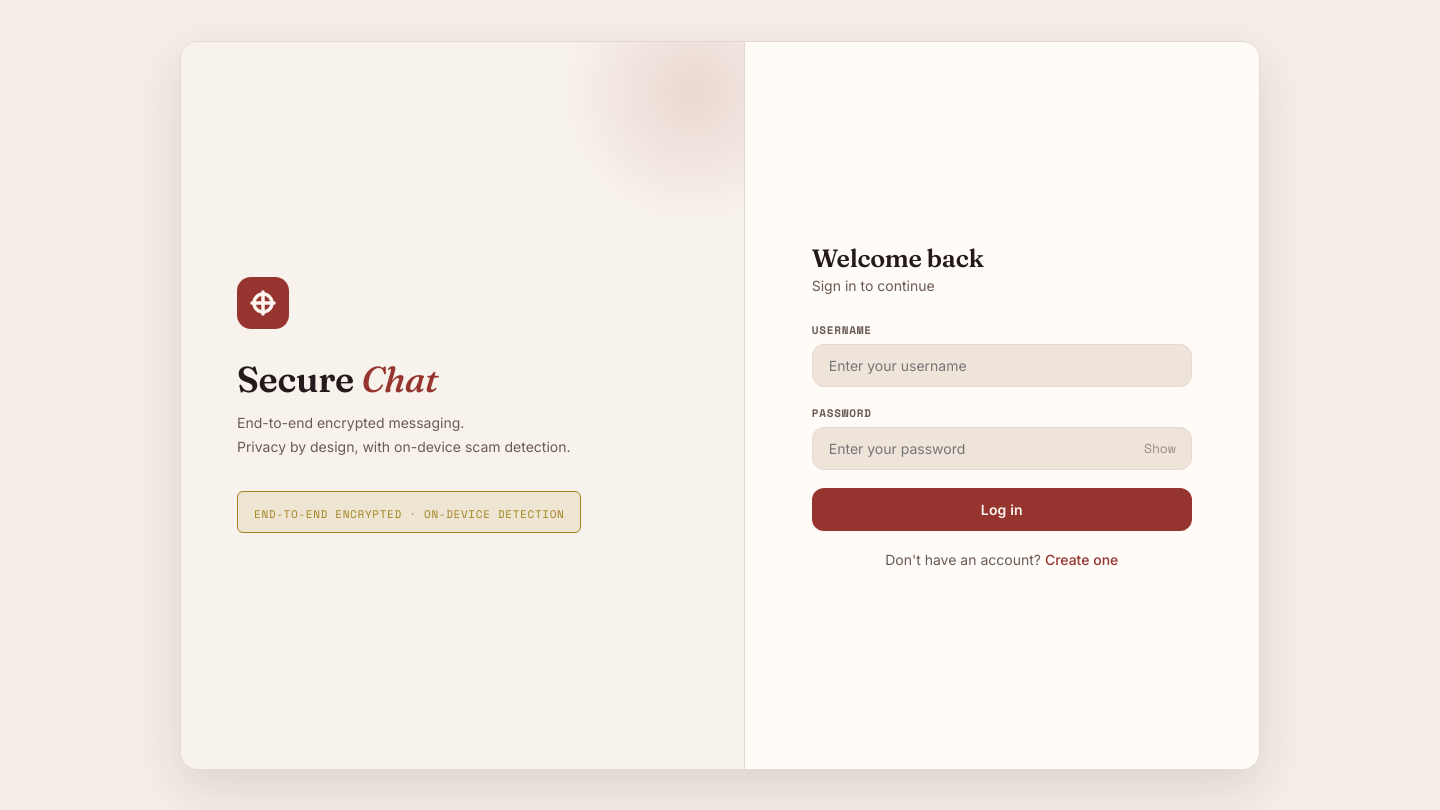
Test case: AuthScreen › shows the server conflict message when the username is already registered
Click the button "Create one": (1082, 559) [1045,550,1118,568]
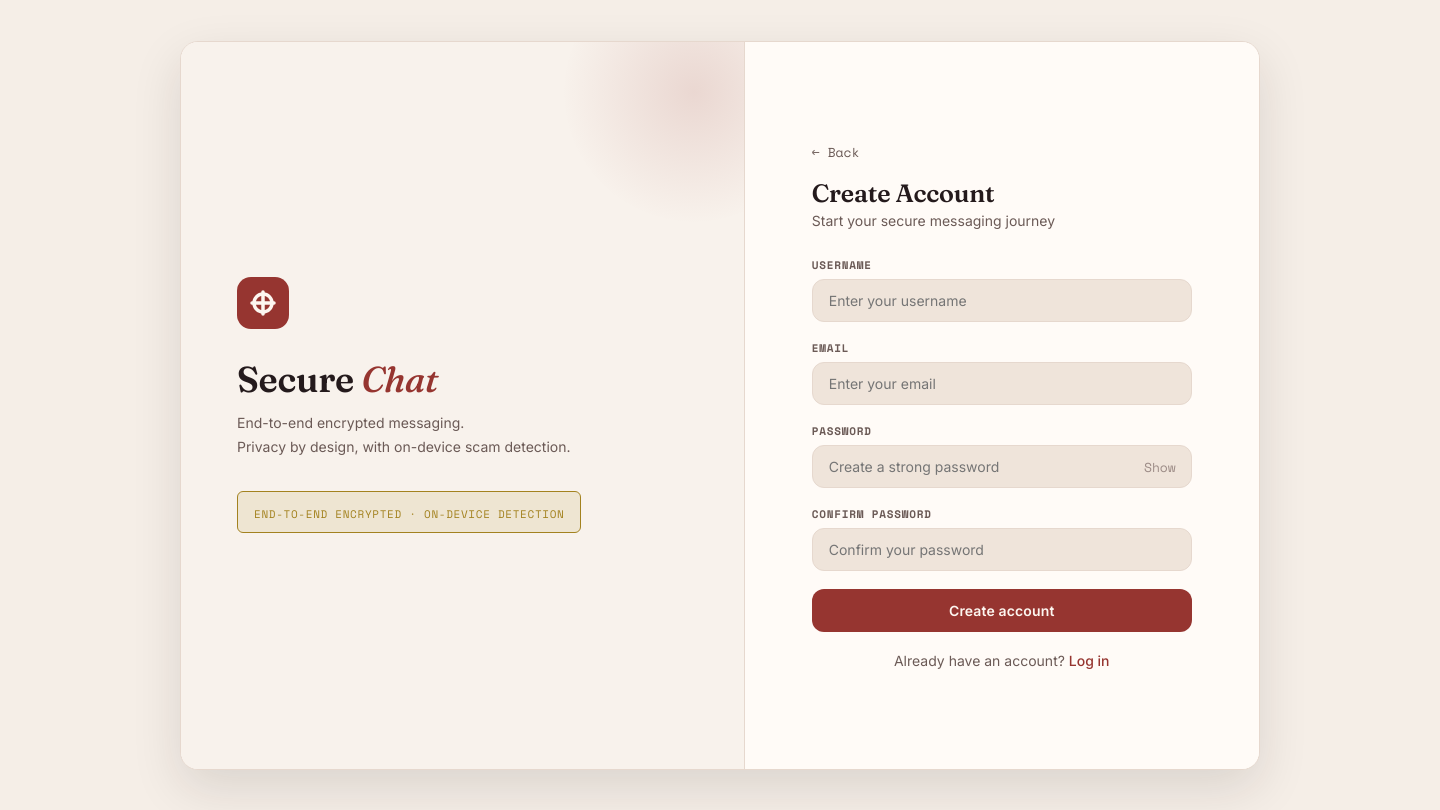
In the field labelled "Username": (1002, 300) [812,279,1192,322], type "alice"
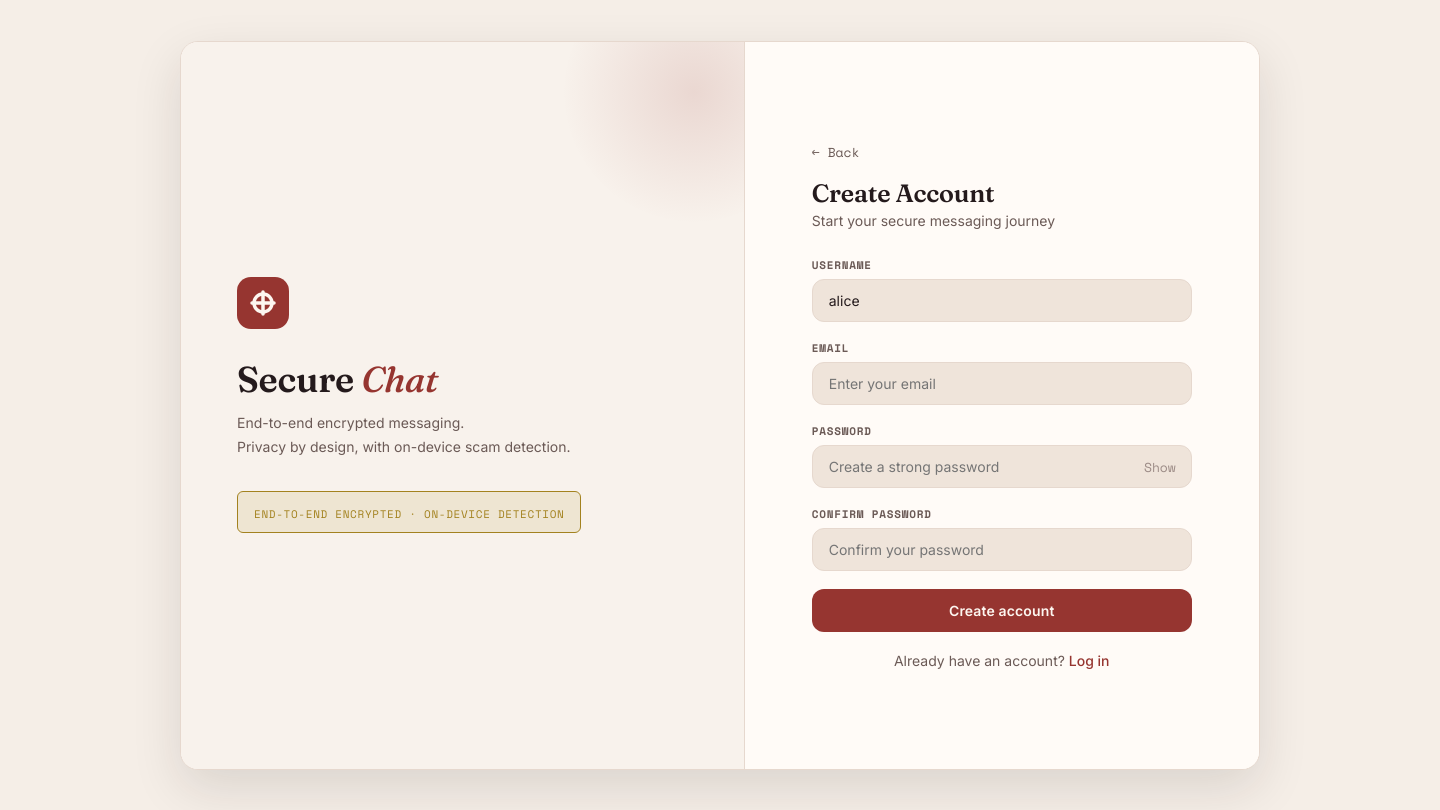
In the field labelled "Email": (1002, 384) [812,362,1192,405], type "alice@example.com"
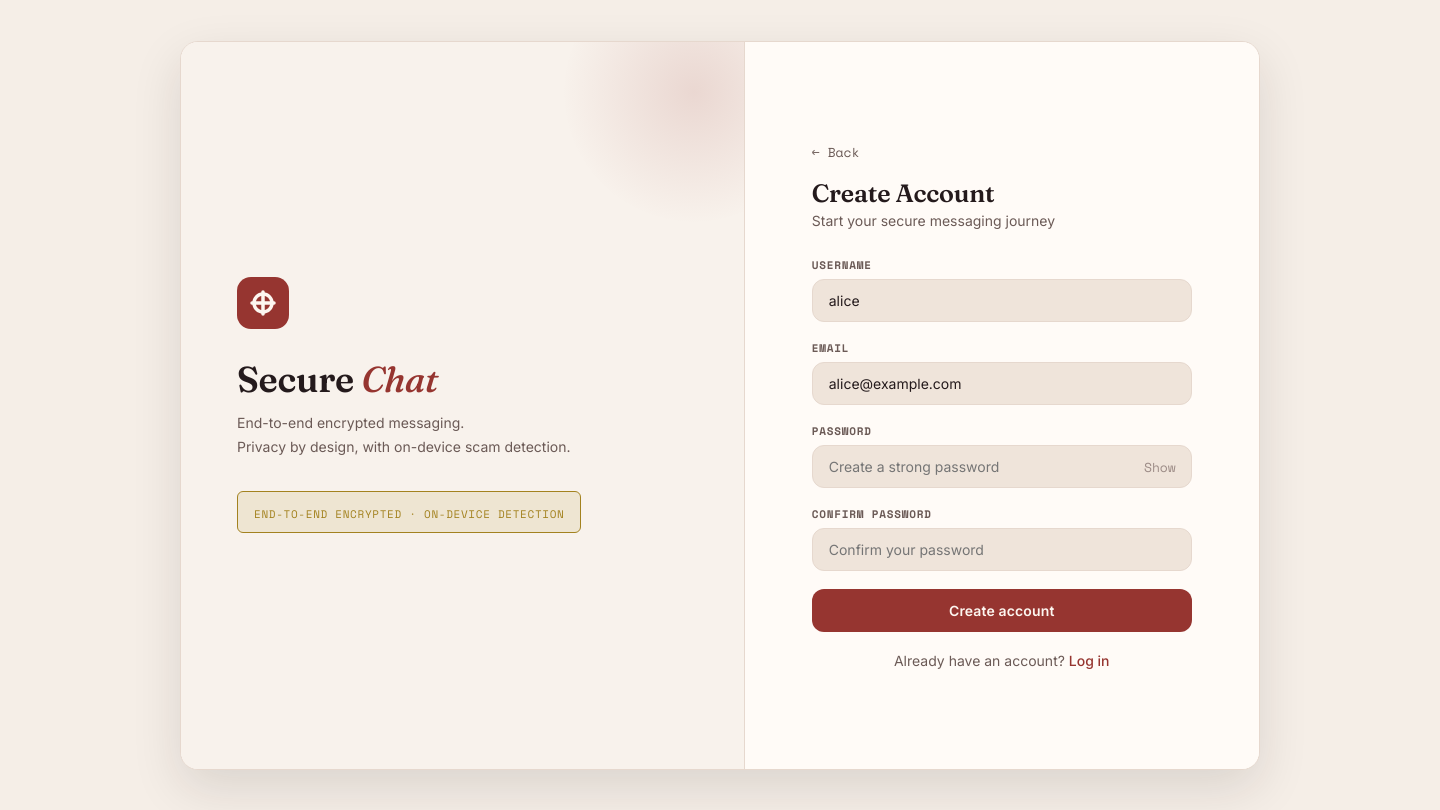
In the password field labelled "Password": (1002, 466) [812,445,1192,488], type "correct horse battery staple"
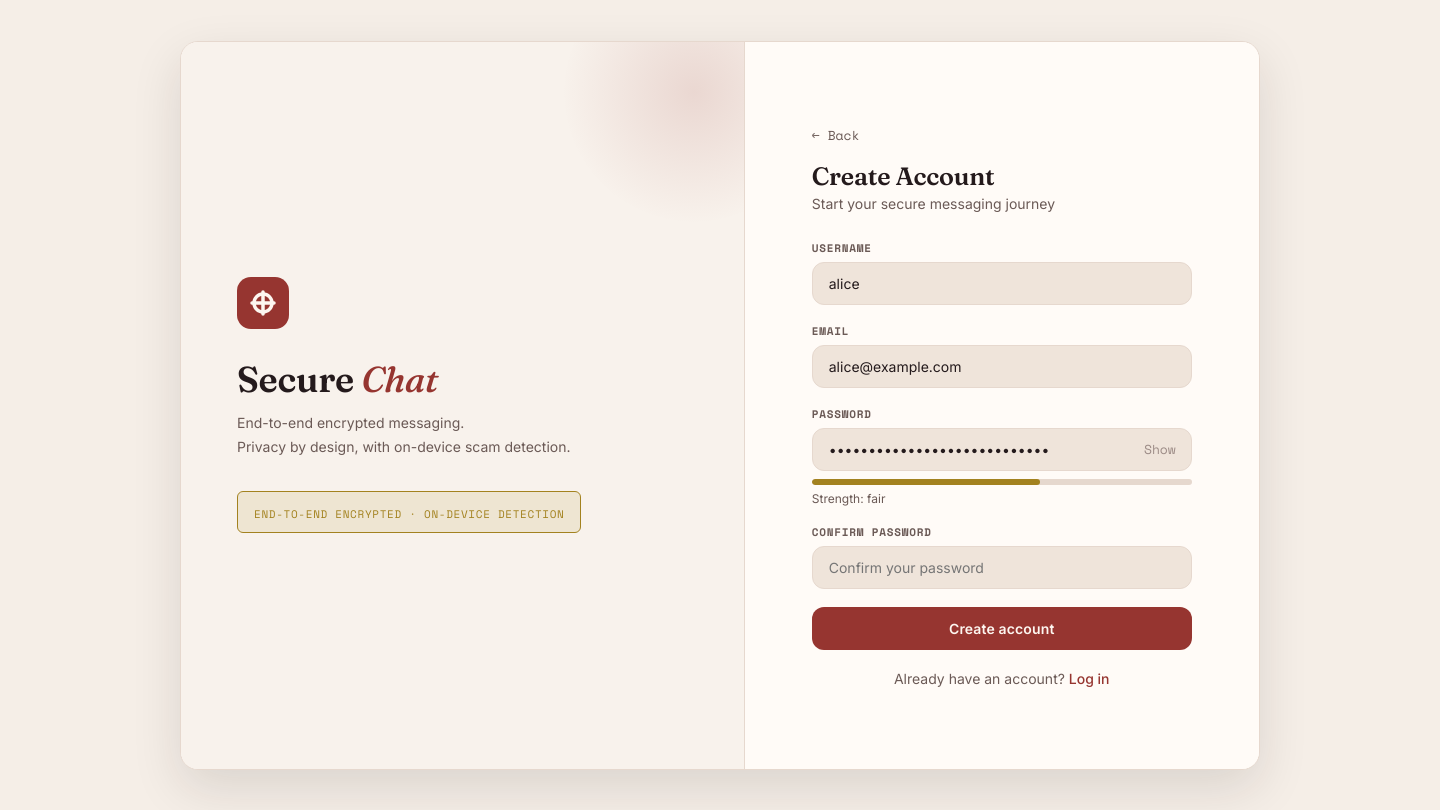
In the password field labelled "Confirm password": (1002, 567) [812,546,1192,588], type "correct horse battery staple"
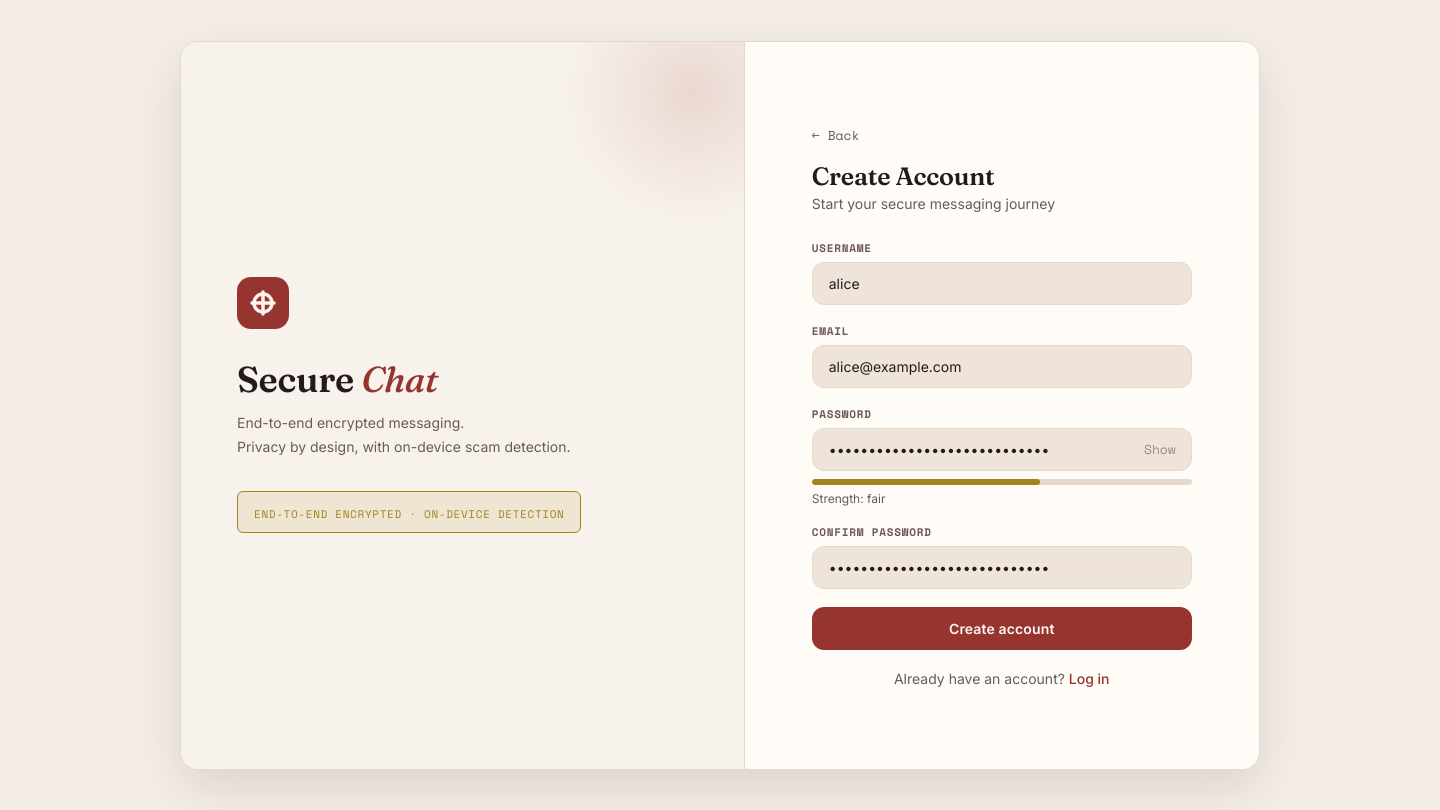
Click the button "Create account": (1002, 628) [812,606,1192,650]
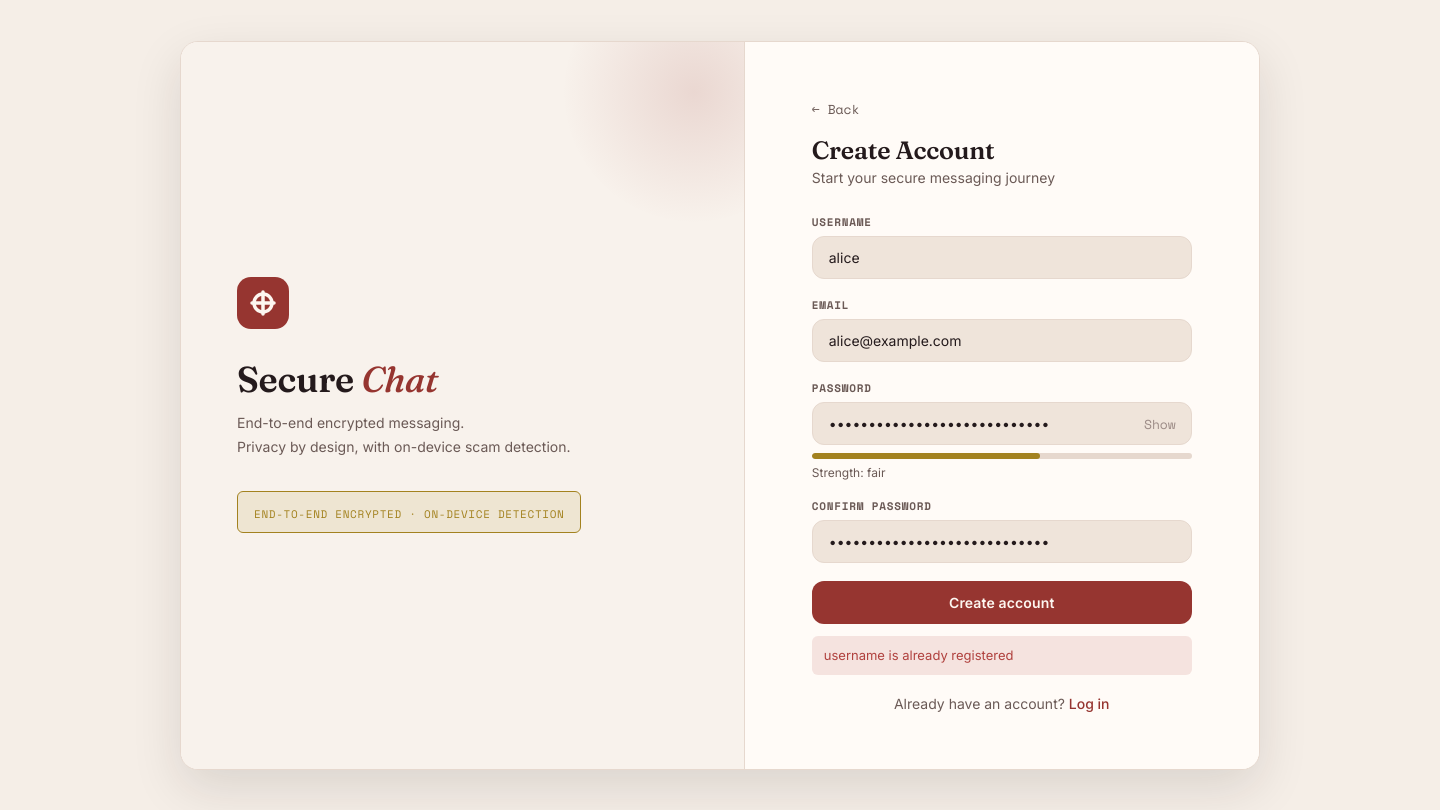
expect the text "username is already registered" is shown: met, box [812,636,1192,675]
